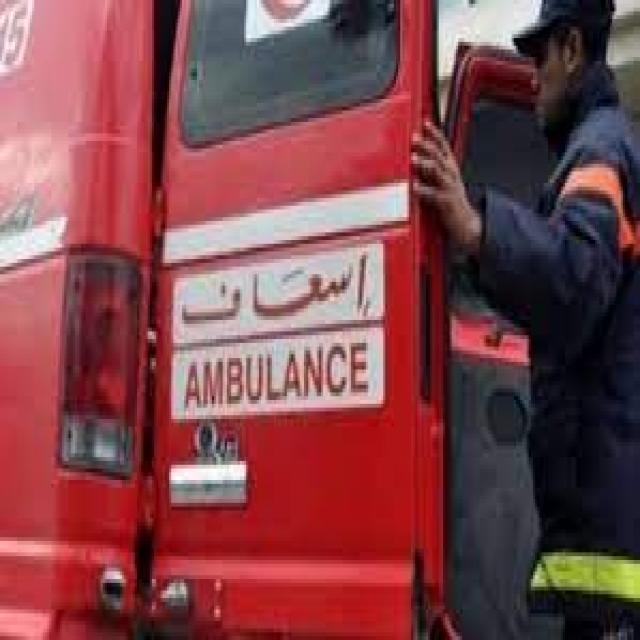ambulance: (0, 0, 419, 632)
